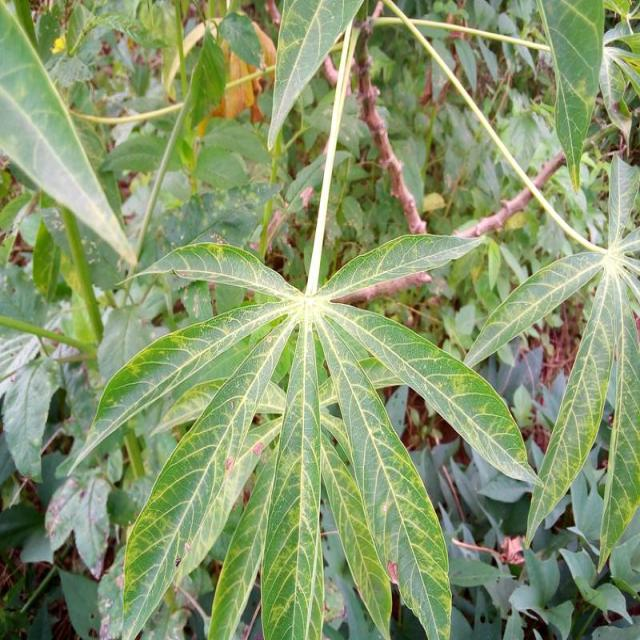Mosaico: (151, 221, 486, 612), (514, 176, 640, 560)
